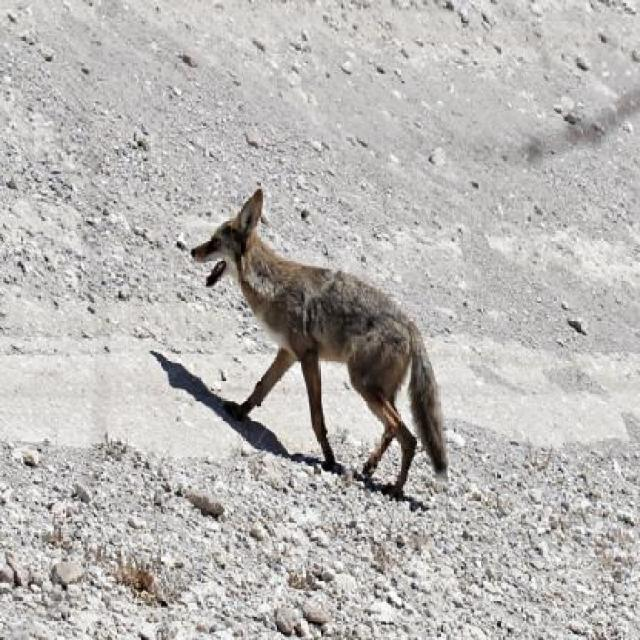Coyote: (192, 188, 448, 503)
